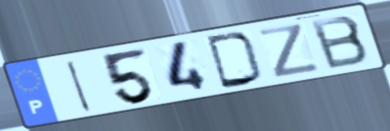4: (164, 39, 214, 96)
5: (98, 46, 156, 106)
B: (307, 14, 372, 72)
D: (204, 31, 266, 91)
I: (64, 58, 95, 114)
Z: (256, 21, 324, 80)
